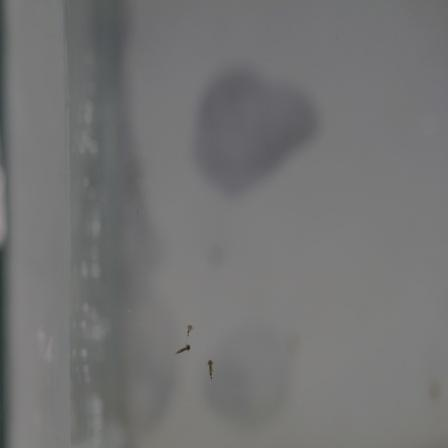Jentik-Nyamuk: (173, 340, 196, 361), (203, 354, 219, 383)
